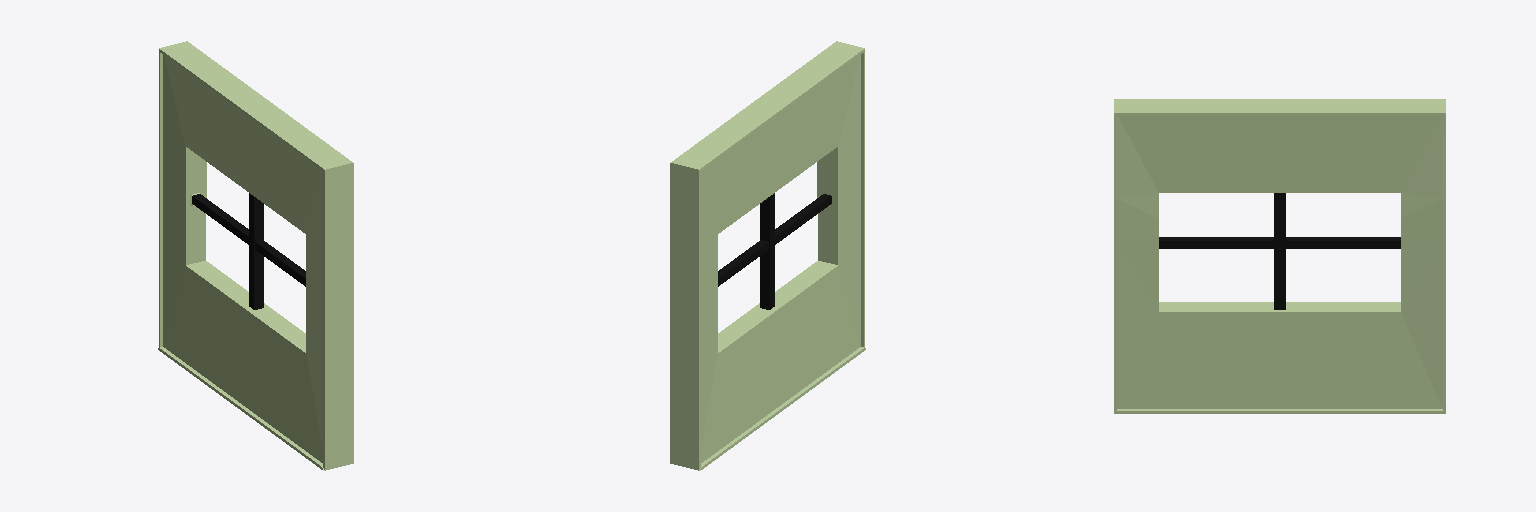
File: cafeWindow1.obj
3 views of the same model, side by side, from view 1: azimuth 30°, elevation 25°; view 2: azimuth 150°, elevation 25°; view 3: azimuth 270°, elevation 25° (orthographic).
Parts seen in each view (by area): view 1: CreamWall.001_Cube.004; view 2: CreamWall.001_Cube.004; view 3: CreamWall.001_Cube.004.
Boxes of the visible parts, x1=… form: CreamWall.001_Cube.004: x1=158, y1=41, x2=353, y2=470; CreamWall.001_Cube.004: x1=670, y1=41, x2=865, y2=470; CreamWall.001_Cube.004: x1=1114, y1=99, x2=1445, y2=413.
Bounding box in the file's own units: 0.1073 × 1 × 1.